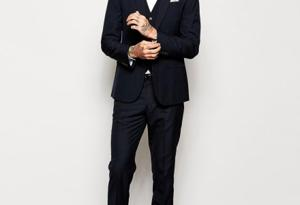F_M_suit jacket: (103, 1, 201, 100)
F_dress pants: (107, 76, 184, 203)
